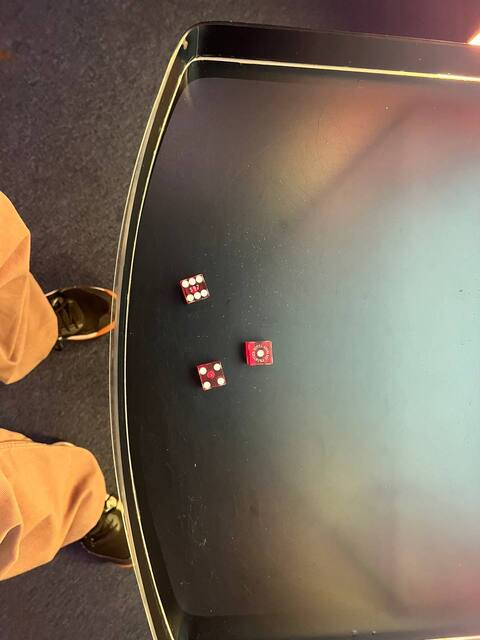four: (194, 357, 229, 392)
one: (240, 336, 277, 370)
six: (176, 268, 213, 307)
